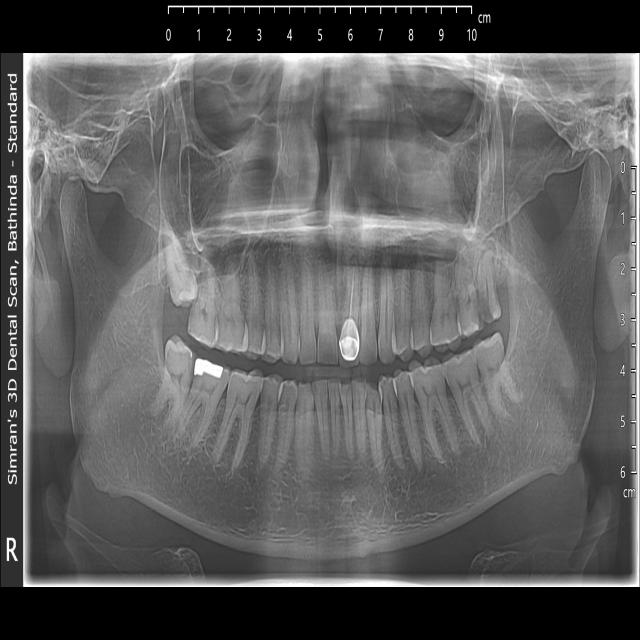Caries: (473, 293, 493, 321)
Crown: (340, 317, 360, 358)
Filling: (193, 358, 221, 385)
Root Canal Treatment: (340, 259, 360, 370)
impacted tooth: (167, 227, 197, 304)
